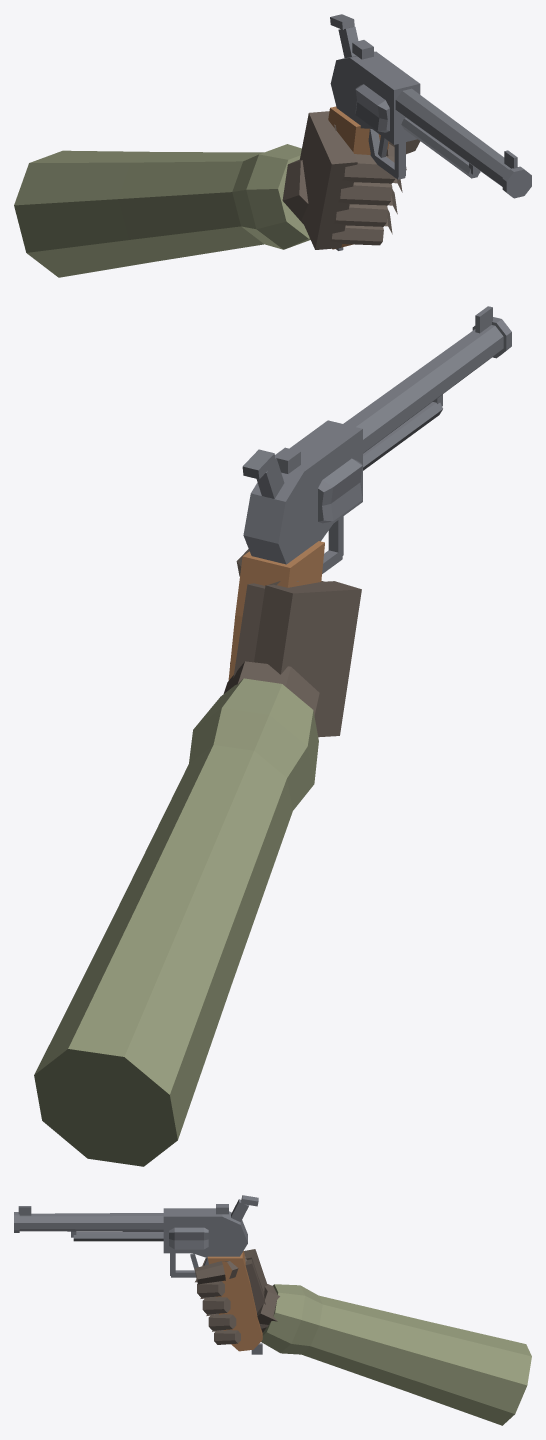
File: revolver.glb
3 renders of one model, top to bottom at view 1: azimuth 30°, elevation 25°; view 2: azimuth 150°, elevation 25°; view 3: azimuth 270°, elevation 25°, orthographic. The views are drawn at different scales.
Parts seen in each view (by area): view 1: arm_r, frame, hand_r, cylinder, grip, hammer; view 2: arm_r, frame, hand_r, grip, cylinder, hammer; view 3: arm_r, frame, hand_r, grip, cylinder, hammer.
Part boxes in pixels (x1=…): arm_r: x1=14, y1=144, x2=310, y2=277; frame: x1=330, y1=40, x2=531, y2=250; hand_r: x1=282, y1=111, x2=420, y2=249; cylinder: x1=355, y1=84, x2=389, y2=132; grip: x1=328, y1=106, x2=389, y2=249; hammer: x1=330, y1=14, x2=358, y2=57; arm_r: x1=34, y1=678, x2=318, y2=1166; frame: x1=243, y1=306, x2=511, y2=573; hand_r: x1=223, y1=543, x2=361, y2=737; grip: x1=228, y1=541, x2=324, y2=680; cylinder: x1=318, y1=458, x2=362, y2=523; hammer: x1=242, y1=449, x2=284, y2=498; arm_r: x1=261, y1=1284, x2=531, y2=1425; frame: x1=14, y1=1204, x2=262, y2=1354; hand_r: x1=194, y1=1249, x2=279, y2=1344; grip: x1=207, y1=1251, x2=262, y2=1351; cylinder: x1=169, y1=1227, x2=208, y2=1249; hammer: x1=231, y1=1195, x2=258, y2=1221.
Bounding box in the file's own units: 0.1426 × 0.2987 × 0.5642.
